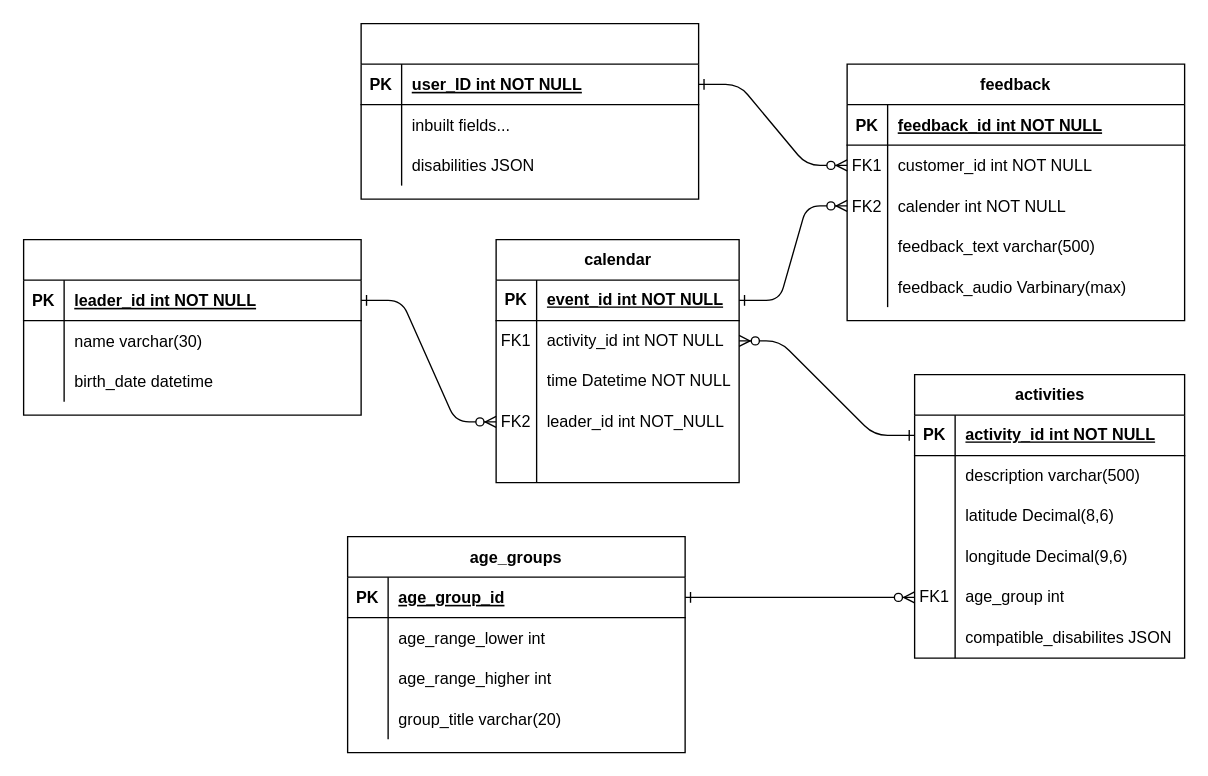
The diagram is 1208 pixels wide and 776 high, and some of its shapes have lost their labels. Here are the shapes that lost their labels. From the top down, the box of each, then its label:
(360, 22, 699, 199): Users (InBuilt)
(22, 238, 361, 415): activity_leaders
